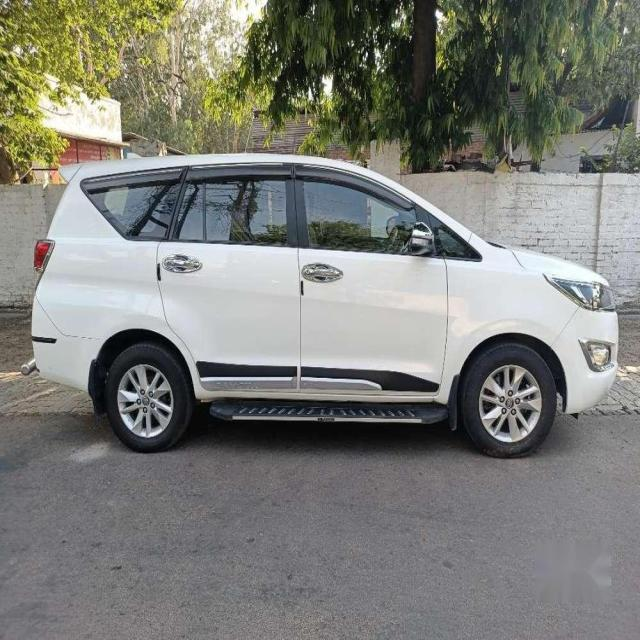light_vehicle: (24, 153, 621, 460)
